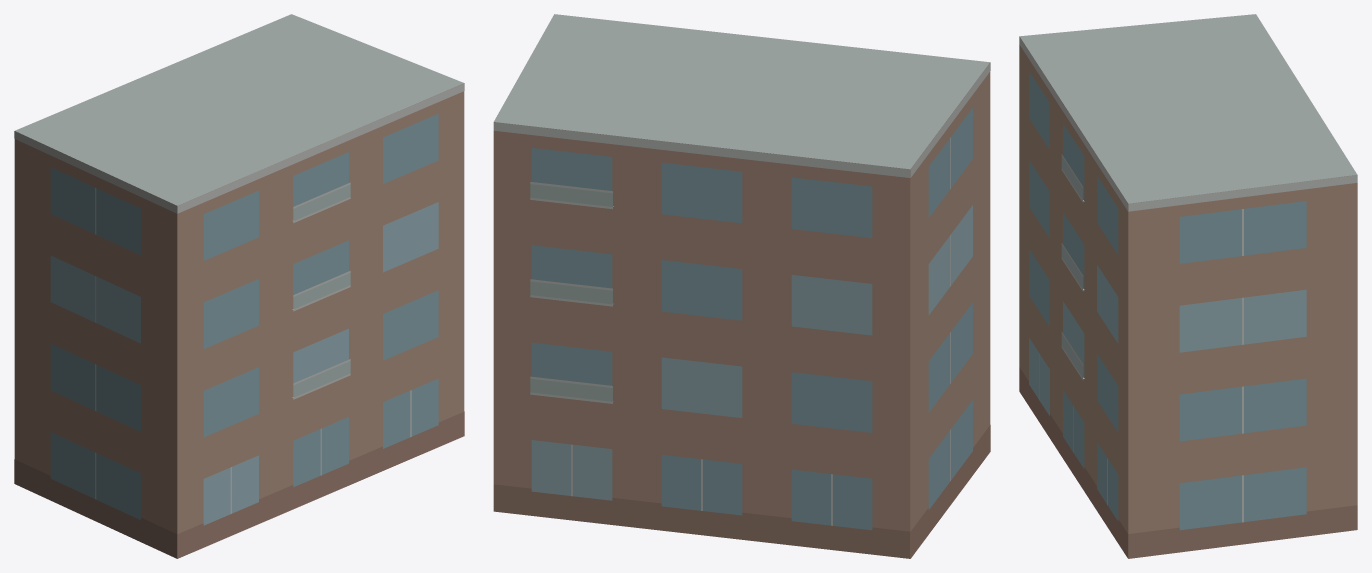
File: survey-upis-32957164.glb
3 renders of one model, left to right at view 1: azimuth 30°, elevation 25°; view 2: azimuth 150°, elevation 25°; view 3: azimuth 270°, elevation 25°, orthographic. The views are drawn at different scales.
Visible parts, largest first — view 1: survey-upis-32957164.tmp; view 2: survey-upis-32957164.tmp; view 3: survey-upis-32957164.tmp.
Part boxes in pixels (<box>): survey-upis-32957164.tmp: <box>14,14,464,558</box>; survey-upis-32957164.tmp: <box>493,14,990,558</box>; survey-upis-32957164.tmp: <box>1019,14,1357,558</box>.
Size of the model in its own units: 12.38 by 10.8 by 9.33.
